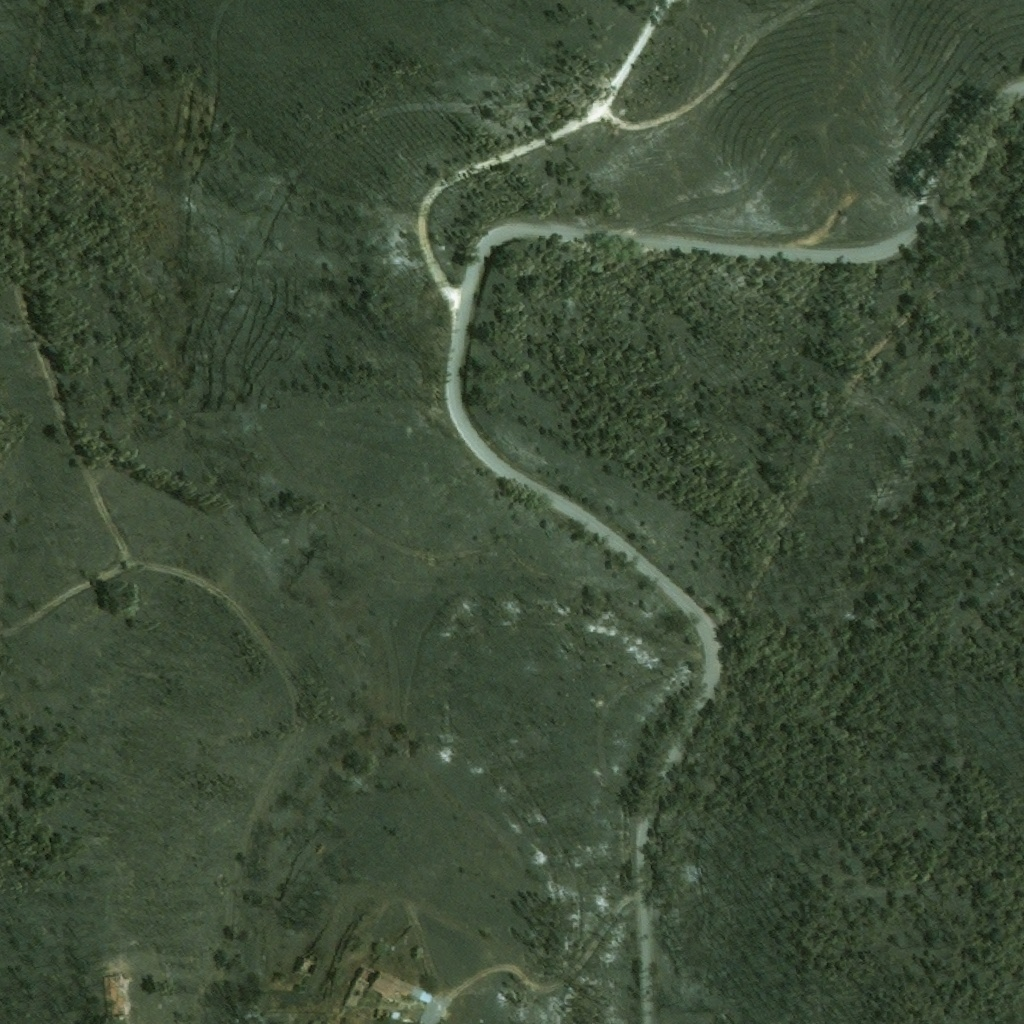0 no-damage: (368, 968, 418, 1004), (412, 988, 433, 1006)
3 destroyed: (341, 965, 375, 1011), (102, 973, 127, 1021), (293, 955, 319, 981), (374, 1009, 399, 1021)
